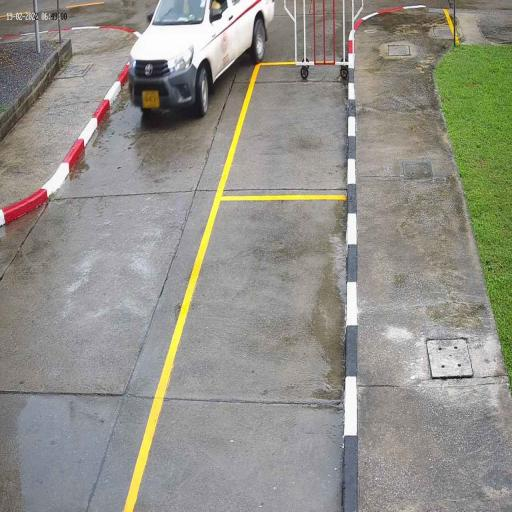car: (128, 0, 278, 122)
